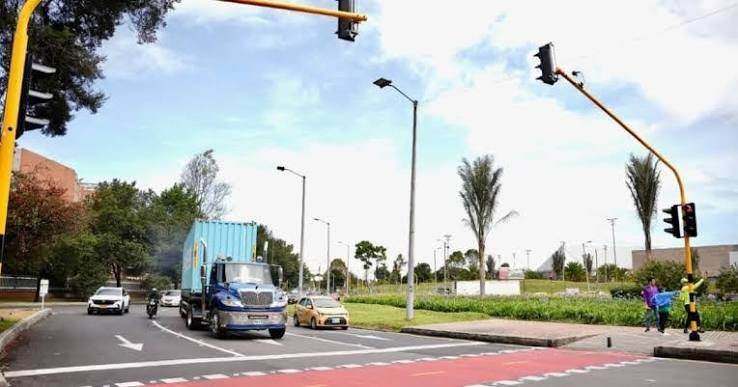car: (173, 227, 293, 339), (180, 266, 290, 340), (192, 254, 285, 339), (289, 295, 350, 329), (84, 289, 128, 316)
